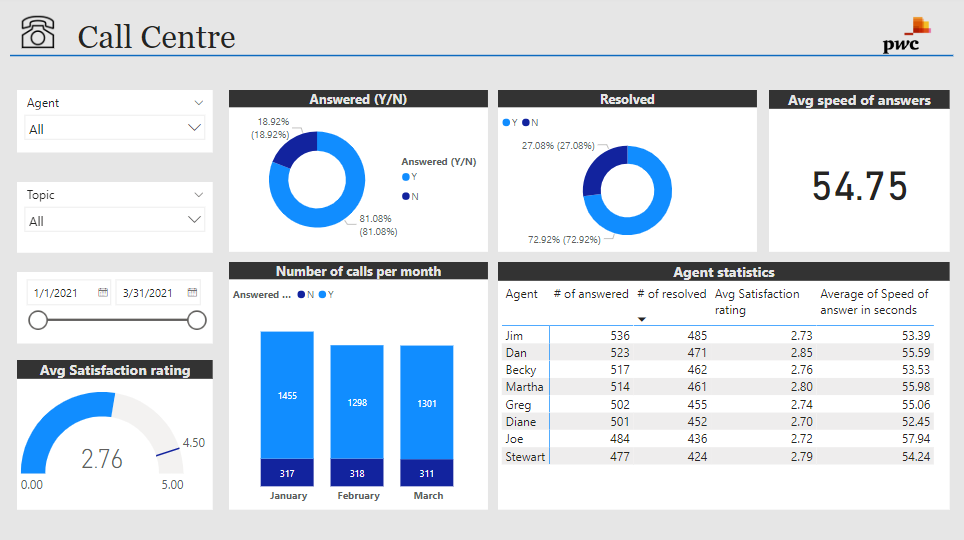

Layout of this report page (visuals, bound fields, positions):
{"tool":"powerbi","page":{"name":"Call_centre Dashboard","canvas":[1280,720],"ordinal":0},"visuals":[{"type":"gauge","title":"Avg Satisfaction rating","fields":{"Y":["call_data.Satisfaction rating"],"TargetValue":["call_data.Target Value Satisfaction"],"MaxValue":["Sum(call_data.Satisfaction rating)1"]},"box":[22,478.5,260.5,199],"z":0},{"type":"card","title":"Avg speed of answers","fields":{"Values":["call_data.Speed of answer in seconds"]},"box":[1021.5,120,240,215.1],"z":1000},{"type":"slicer","fields":{"Values":["call_data.Date"]},"box":[22,361.5,260.5,95.1],"z":2000},{"type":"textbox","box":[13.2,20.5,389.3,64.4],"z":3000},{"type":"shape","box":[13.2,64.4,1252.7,20.5],"z":4000},{"type":"slicer","fields":{"Values":["call_data.Agent"]},"box":[22,120,260.5,83.4],"z":5000},{"type":"slicer","fields":{"Values":["call_data.Topic"]},"box":[22,241.5,260.5,93.7],"z":6000},{"type":"donutChart","title":" Answered (Y/N)","fields":{"Category":["call_data.Answered (Y/N)"],"Y":["call_data.Answered (Y/N)"]},"box":[304.4,120,343.9,215.1],"z":7000},{"type":"donutChart","title":"Resolved","fields":{"Category":["call_data.Resolved"],"Y":["call_data.Resolved"]},"box":[661.5,120,343.9,215.1],"z":8000},{"type":"columnChart","title":"Number of calls per month","fields":{"Category":["call_data.Date.Variation.Date Hierarchy.Month"],"Series":["call_data.Answered (Y/N)"],"Y":["call_data.Call Id"]},"box":[304.4,348.3,343.9,329.3],"z":9000},{"type":"pivotTable","title":"Agent statistics","fields":{"Rows":["call_data.Agent"],"Values":["call_data.# of answered","call_data.# of resolved","call_data.Satisfaction rating","call_data.Speed of answer in seconds"]},"box":[661.5,348.3,600,329.3],"z":10000},{"type":"image","box":[1129,0,151,94.5],"z":11000},{"type":"image","box":[24.1,7.7,53.1,68.5],"z":12000}]}

Visuals, with their boxes in screenshot pixels (x1, y1, x2, y2), scaled from the page's 1280x720 canvas onto the 964x540 screenshot:
"Avg Satisfaction rating" gauge: [left=17, top=359, right=213, bottom=508]
"Avg speed of answers" card: [left=769, top=90, right=950, bottom=251]
slicer - call_data.Date: [left=17, top=271, right=213, bottom=342]
textbox: [left=10, top=15, right=303, bottom=64]
shape: [left=10, top=48, right=953, bottom=64]
slicer - call_data.Agent: [left=17, top=90, right=213, bottom=153]
slicer - call_data.Topic: [left=17, top=181, right=213, bottom=251]
" Answered (Y/N)" donutChart: [left=229, top=90, right=488, bottom=251]
"Resolved" donutChart: [left=498, top=90, right=757, bottom=251]
"Number of calls per month" columnChart: [left=229, top=261, right=488, bottom=508]
"Agent statistics" pivotTable: [left=498, top=261, right=950, bottom=508]
image: [left=850, top=0, right=963, bottom=71]
image: [left=18, top=6, right=58, bottom=57]
